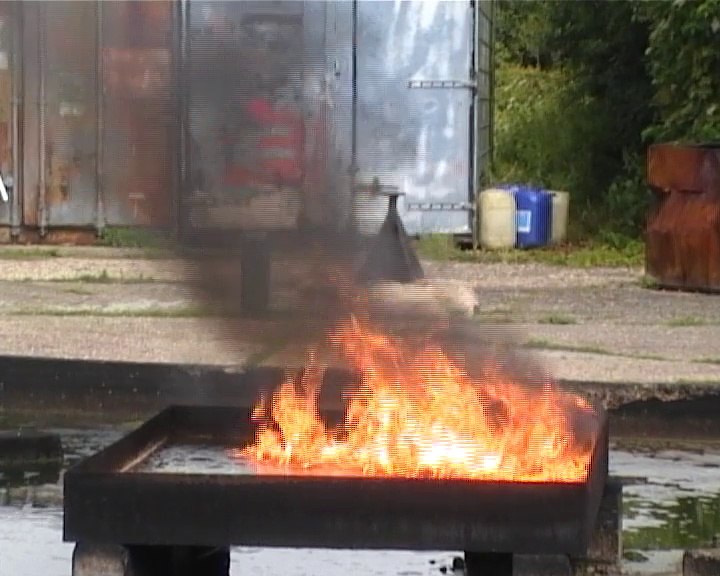fire: (249, 332, 585, 481)
